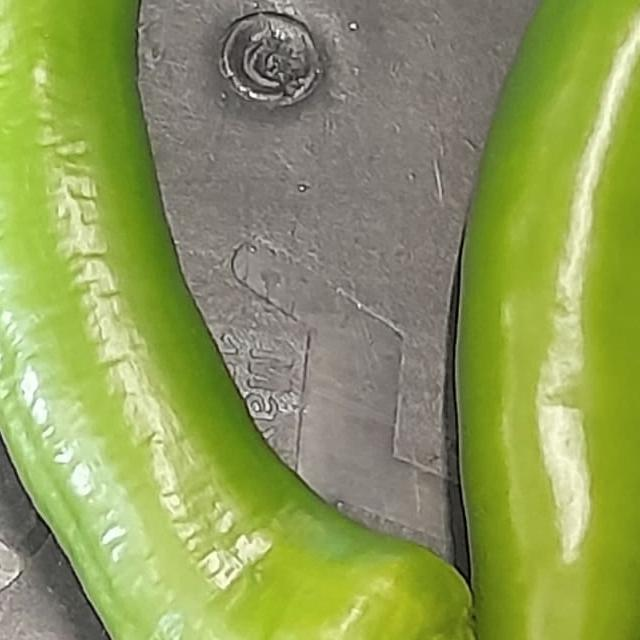chili_pepper: (0, 0, 640, 640), (343, 0, 640, 640)
